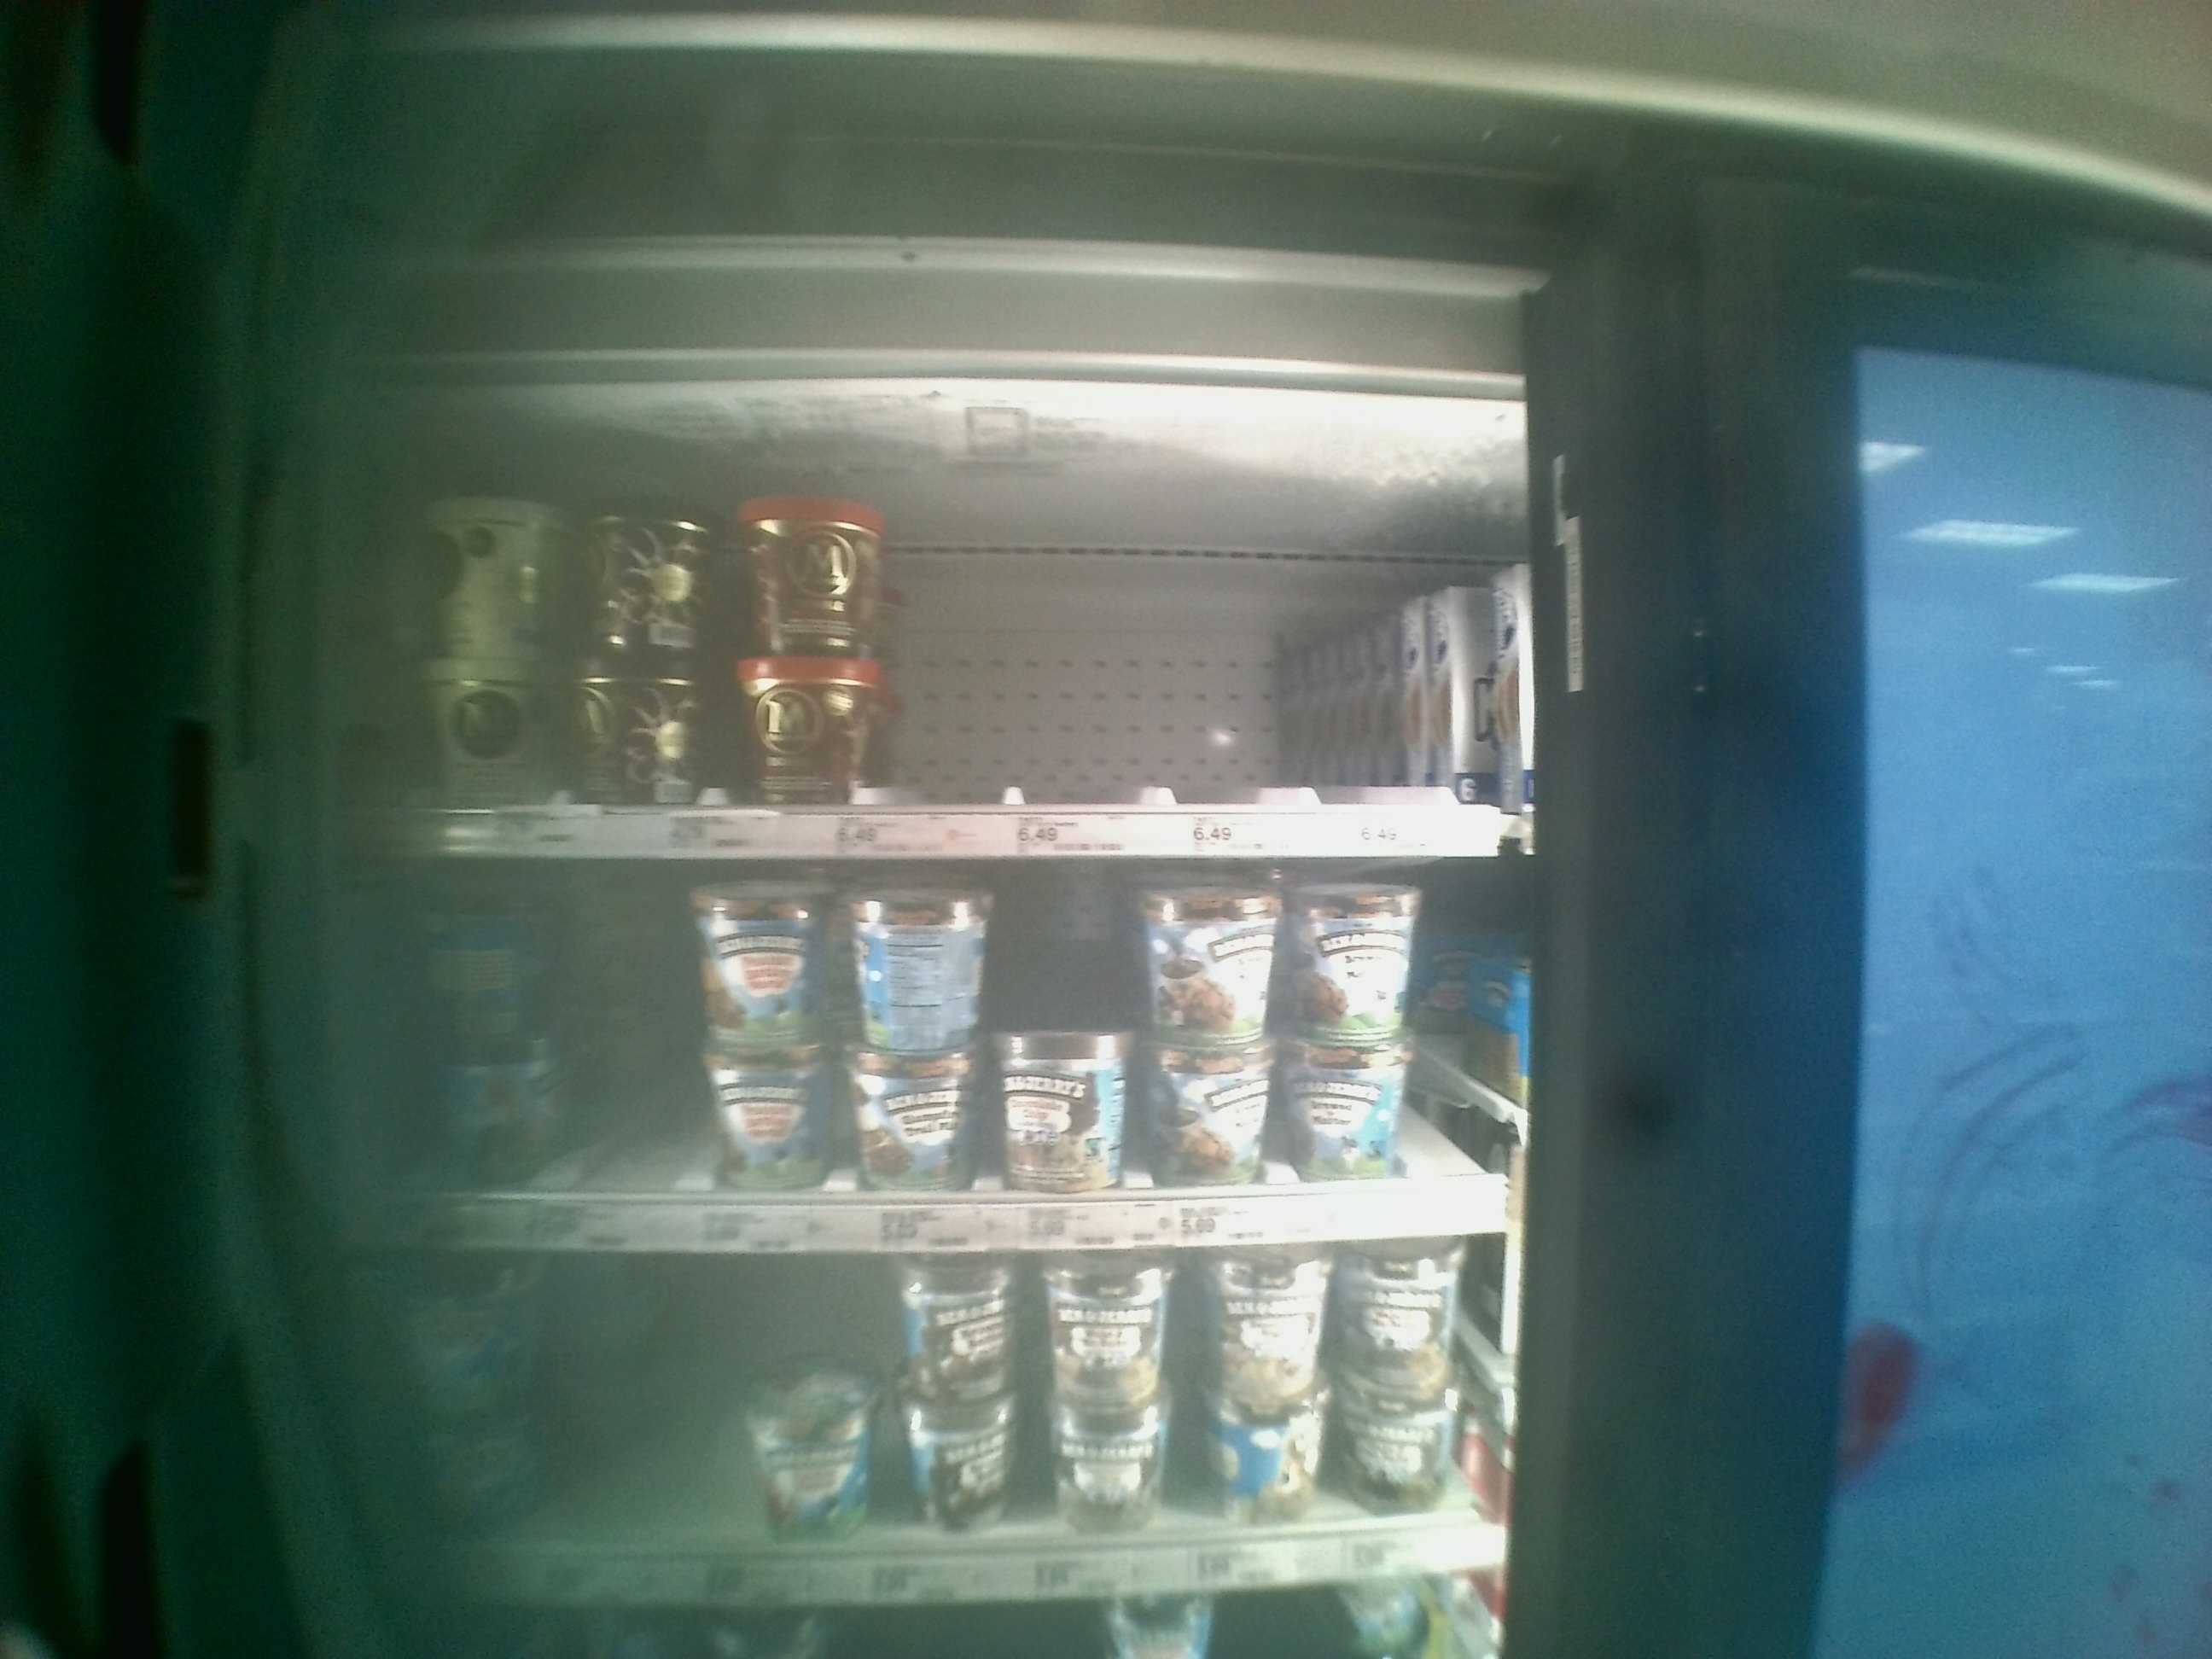ice-cream-shelf: (371, 432, 1541, 863), (374, 863, 1533, 1248)
